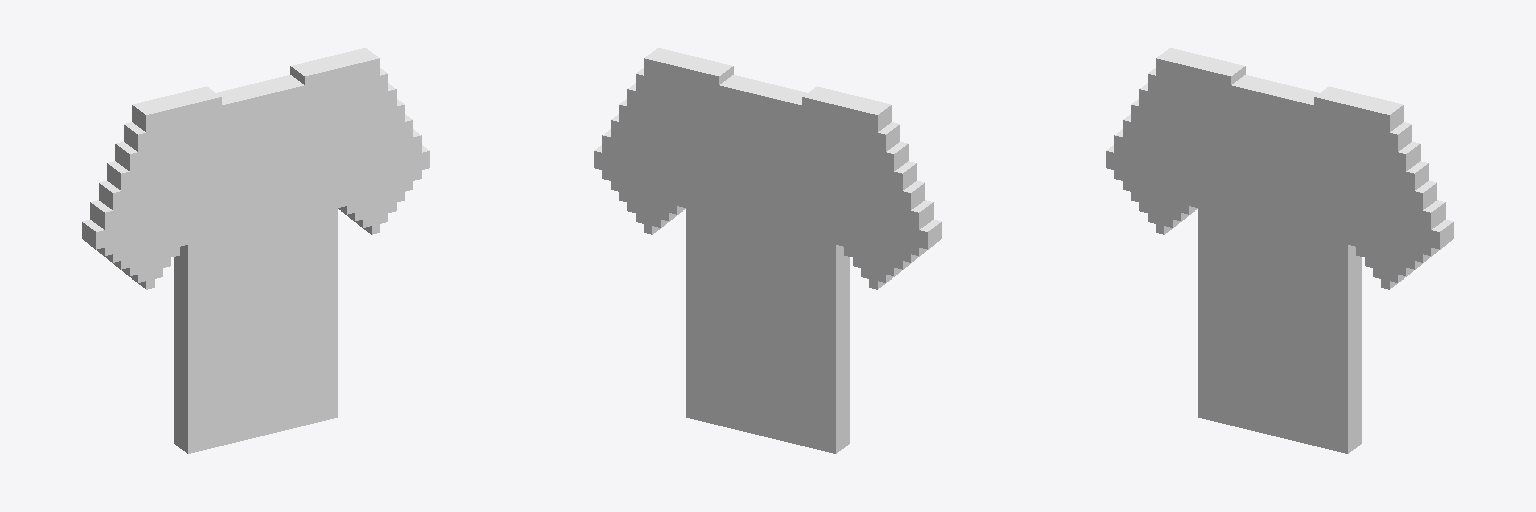
The model's file is tshirt_red.obj.
The picture shows the model from 3 angles: view 1: azimuth 30°, elevation 25°; view 2: azimuth 150°, elevation 25°; view 3: azimuth 330°, elevation 25°; orthographic projection.
Visible parts, largest first — view 1: object 1; view 2: object 1; view 3: object 1.
Boxes of the visible parts, x1=… form: object 1: x1=82, y1=48, x2=429, y2=453; object 1: x1=594, y1=48, x2=941, y2=453; object 1: x1=1106, y1=48, x2=1453, y2=453.
Size of the model in its own units: 4 by 4 by 0.3.